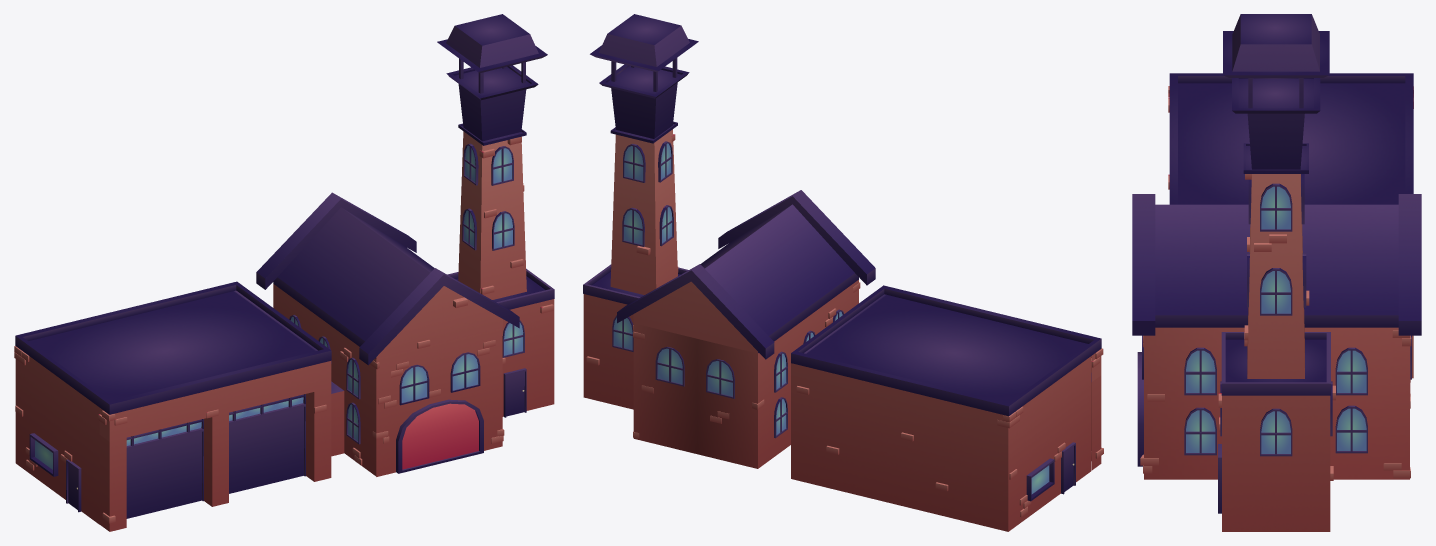
Rendered from SM_FireStation.fbx.
3 renders of one model, left to right at view 1: azimuth 30°, elevation 25°; view 2: azimuth 150°, elevation 25°; view 3: azimuth 270°, elevation 25°, orthographic. The views are drawn at different scales.
Parts seen in each view (by area): view 1: SM_FireStation; view 2: SM_FireStation; view 3: SM_FireStation.
Boxes of the visible parts, x1,y1,x2,y2 form: SM_FireStation: (14, 14, 554, 531); SM_FireStation: (583, 14, 1103, 531); SM_FireStation: (1132, 14, 1421, 531).
Bounding box in the file's own units: 27.17 × 11.19 × 20.36.
